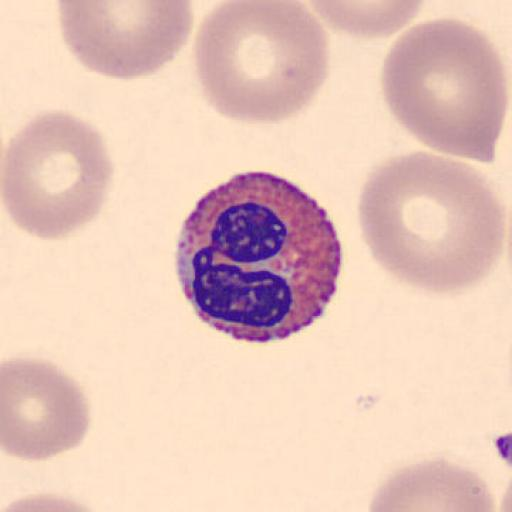RBC: (356, 148, 506, 295), (379, 18, 508, 164), (193, 0, 329, 126), (0, 108, 115, 242), (55, 1, 195, 81), (2, 355, 92, 462), (364, 455, 495, 512), (303, 0, 428, 41), (1, 491, 107, 512)
WBC: (171, 171, 347, 344)
